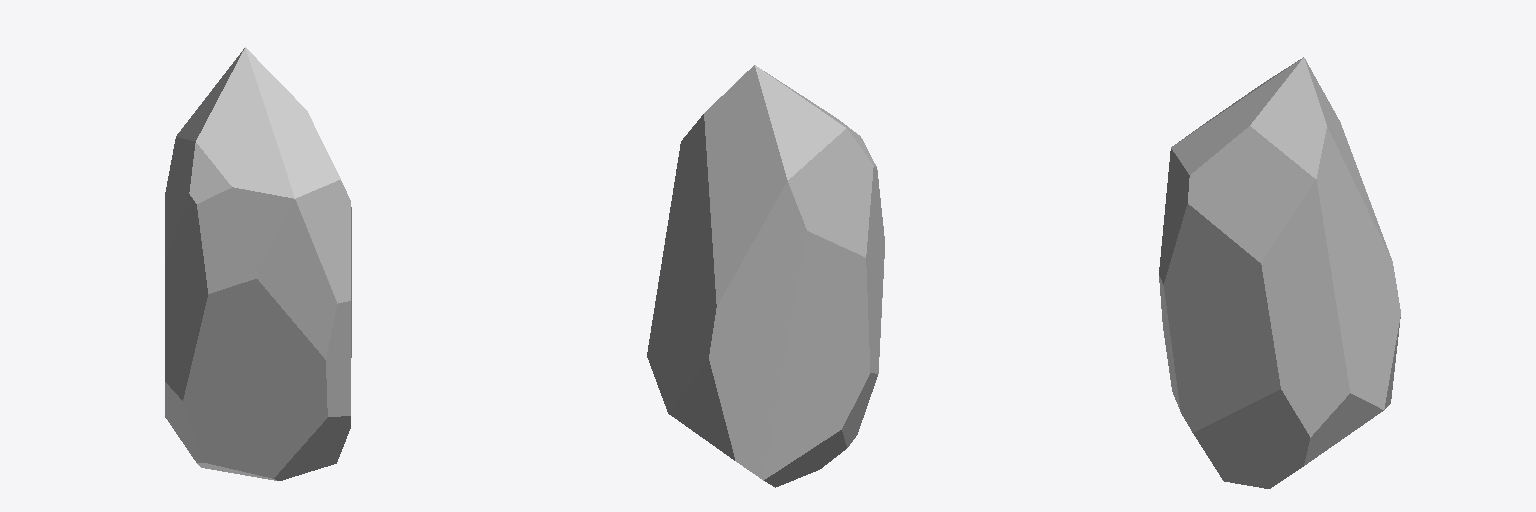
Rendered from Prop_Decorative_Rock_7.obj.
3 views of the same model, side by side, from view 1: azimuth 30°, elevation 25°; view 2: azimuth 150°, elevation 25°; view 3: azimuth 270°, elevation 25° (orthographic).
Visible parts, largest first — view 1: Rock; view 2: Rock; view 3: Rock.
Boxes of the visible parts, x1=… form: Rock: x1=165, y1=47, x2=351, y2=480; Rock: x1=647, y1=65, x2=884, y2=487; Rock: x1=1159, y1=57, x2=1400, y2=488.
Size of the model in its own units: 0.9008 by 1.78 by 0.9767.